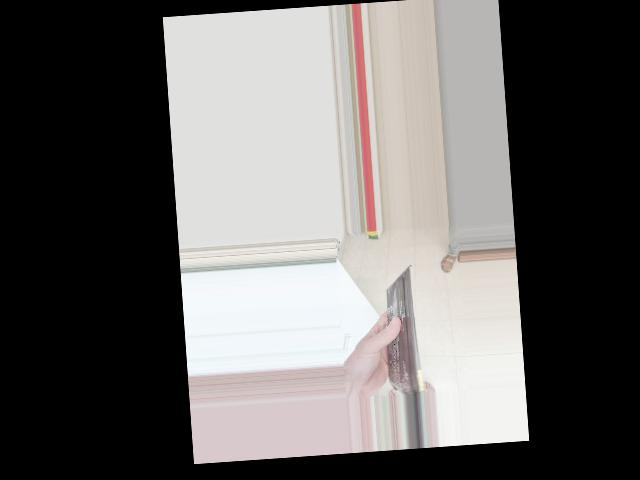chocolate: (377, 276, 428, 397)
